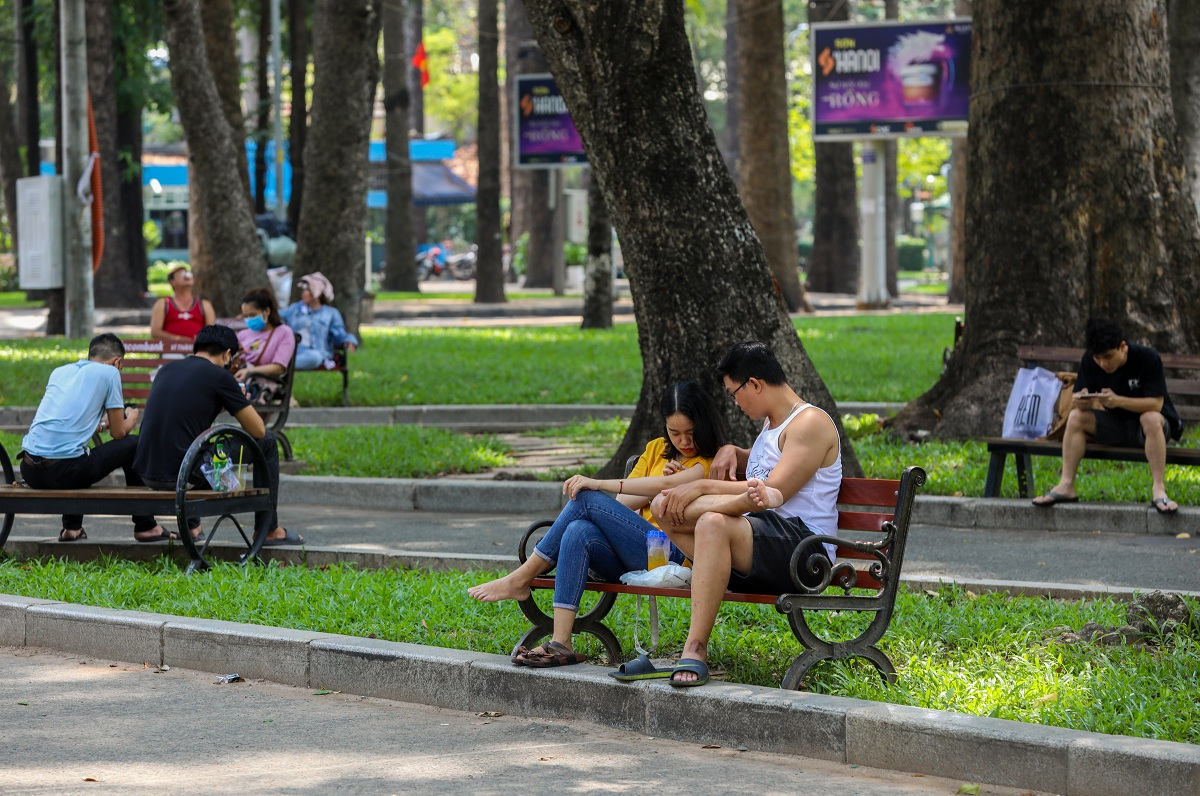person: (463, 377, 736, 678), (647, 340, 859, 689), (127, 317, 310, 556), (12, 320, 181, 555), (1026, 294, 1189, 531), (220, 284, 301, 437), (272, 265, 364, 394), (142, 255, 221, 365)
